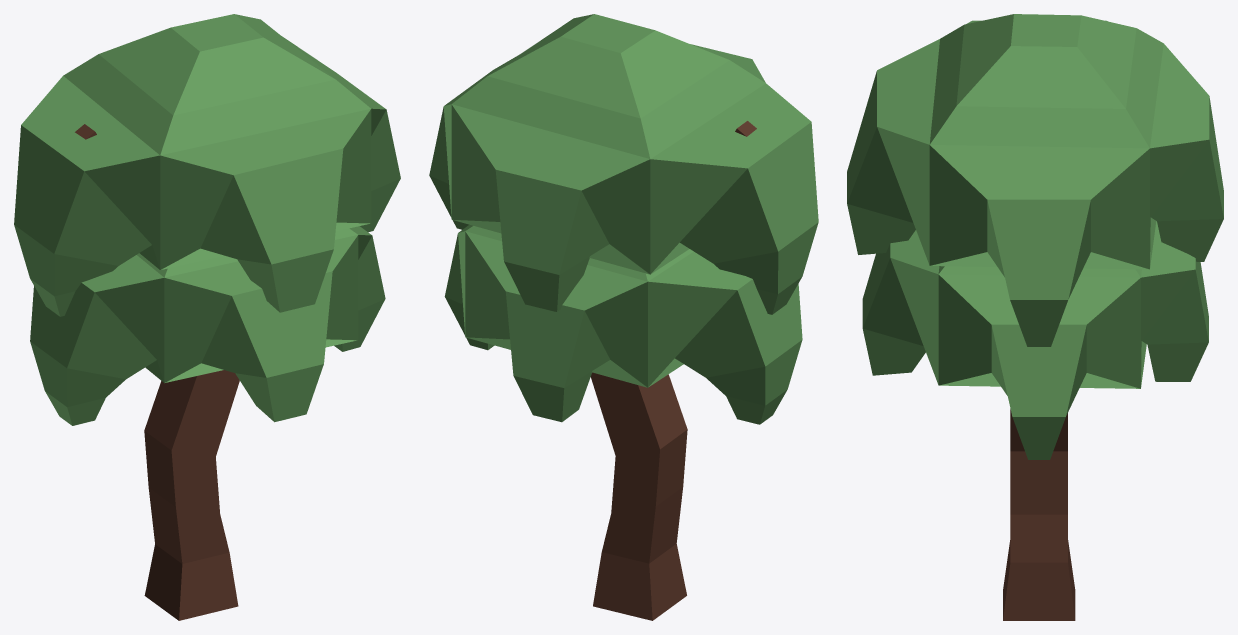
The model's file is lushoak_1.glb.
The picture shows the model from 3 angles, left to right: view 1: azimuth 30°, elevation 25°; view 2: azimuth 150°, elevation 25°; view 3: azimuth 270°, elevation 25°; orthographic projection. The views are drawn at different scales.
Visible parts, largest first — view 1: Cube.013, Cube.012, Cube.011; view 2: Cube.013, Cube.012, Cube.011; view 3: Cube.013, Cube.012, Cube.011.
Part boxes in pixels (x1,y1,x2,y2): Cube.013: (14,14,400,316); Cube.012: (30,226,385,425); Cube.011: (75,124,239,620); Cube.013: (429,14,818,314); Cube.012: (444,224,802,424); Cube.011: (591,121,756,620); Cube.013: (847,14,1223,346); Cube.012: (862,221,1208,459); Cube.011: (1003,409,1075,620).
Bounding box in the file's own units: 11.88 × 17.97 × 10.41.
